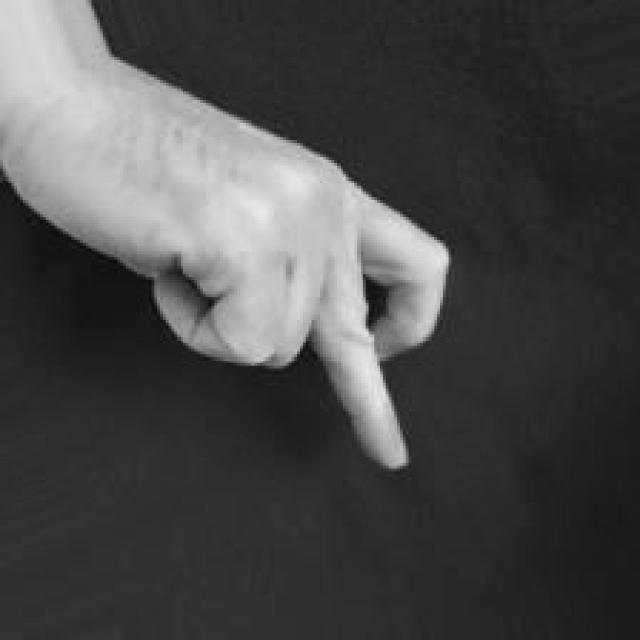P: (3, 0, 454, 485)
